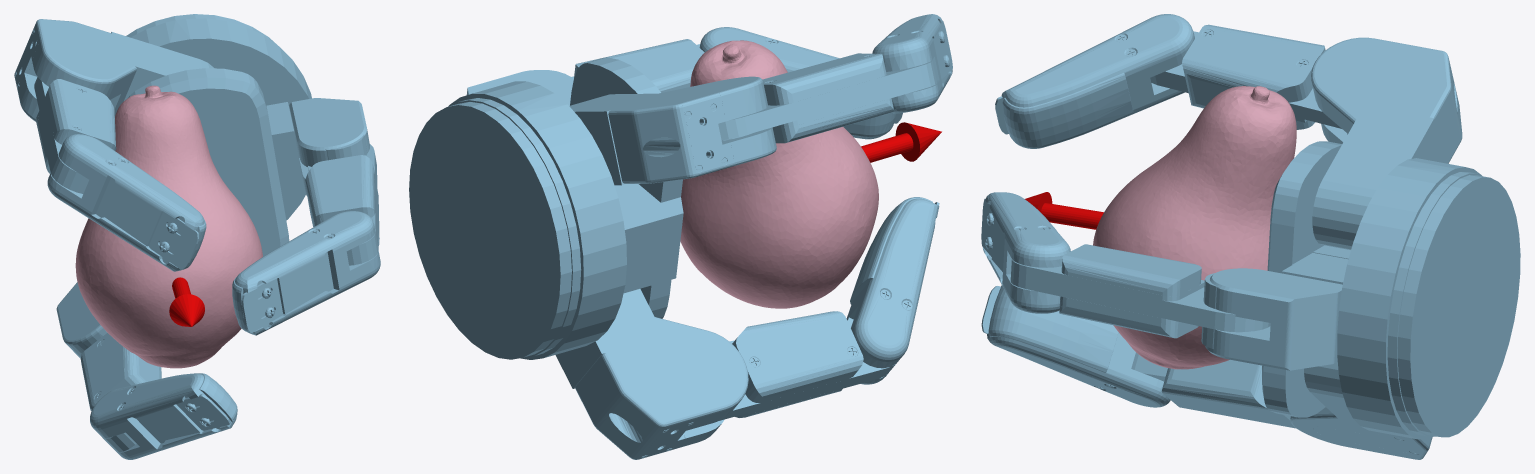
The picture shows the model from 3 angles, left to right: view 1: azimuth 30°, elevation 25°; view 2: azimuth 150°, elevation 25°; view 3: azimuth 270°, elevation 25°; orthographic projection. The views are drawn at different scales.
Parts seen in each view (by area): view 1: world, pear.stl; view 2: world, pear.stl; view 3: world, pear.stl.
Boxes of the visible parts, <box> form: world: <box>14,14,380,459</box>; pear.stl: <box>75,85,262,368</box>; world: <box>409,14,952,459</box>; pear.stl: <box>680,40,878,308</box>; world: <box>981,14,1520,459</box>; pear.stl: <box>1093,86,1296,369</box>.
Bounding box in the file's own units: 0.156 × 0.1355 × 0.1733.
